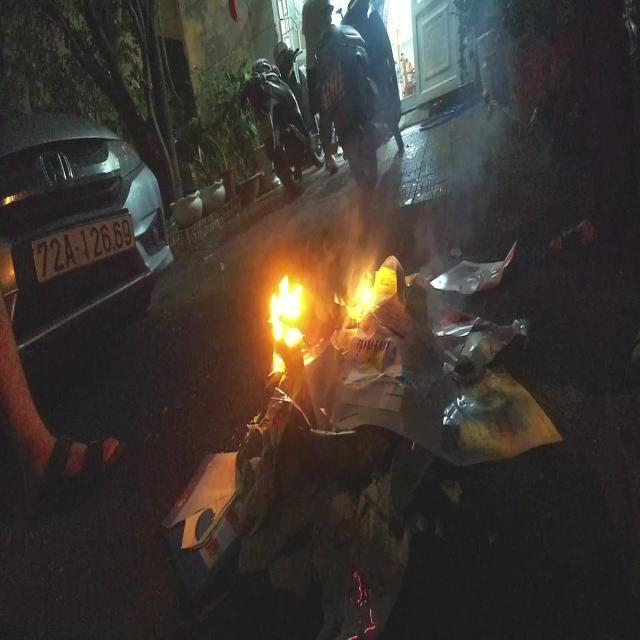Fire: (270, 270, 376, 378)
Smoke: (322, 175, 493, 276)
